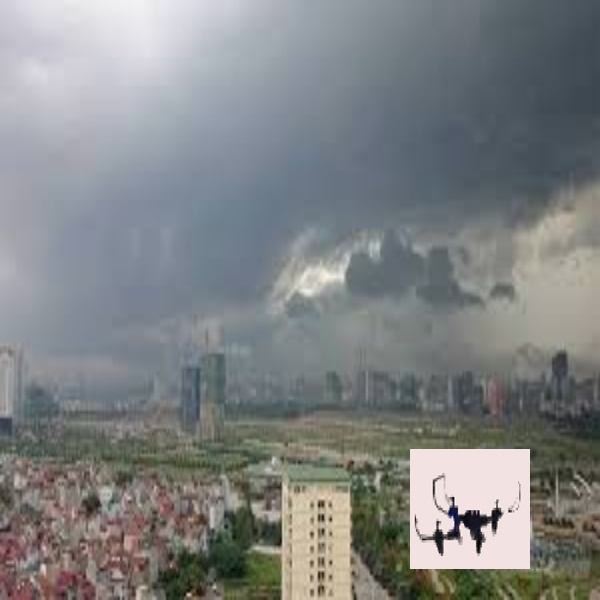drone: (419, 458, 526, 567)
